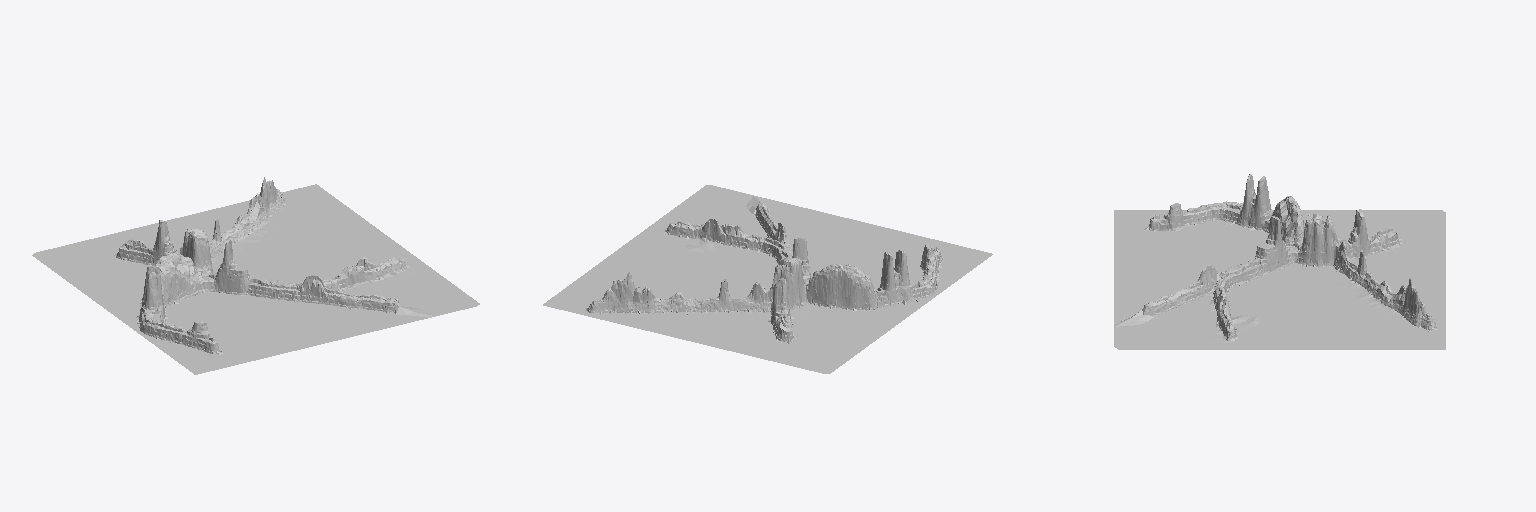
The model's file is bart-tripping.obj.
3 views of the same model, side by side, from view 1: azimuth 30°, elevation 25°; view 2: azimuth 150°, elevation 25°; view 3: azimuth 270°, elevation 25° (orthographic).
Parts seen in each view (by area): view 1: pPlane1_displacement1; view 2: pPlane1_displacement1; view 3: pPlane1_displacement1.
Part boxes in pixels (x1,y1,x2,y2): pPlane1_displacement1: (32,177,479,374); pPlane1_displacement1: (543,185,992,373); pPlane1_displacement1: (1114,174,1445,349).
Bounding box in the file's own units: 16.31 × 2.57 × 16.31.